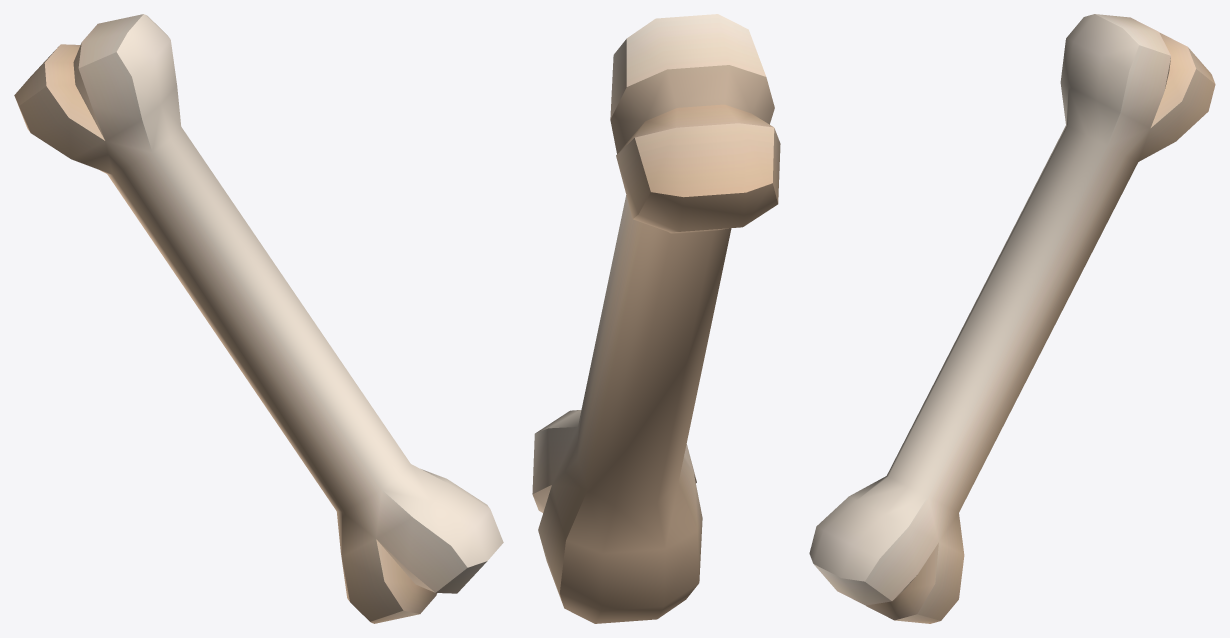
The model's file is GhostUser.glb.
3 views of the same model, side by side, from view 1: azimuth 30°, elevation 25°; view 2: azimuth 150°, elevation 25°; view 3: azimuth 270°, elevation 25° (orthographic). The views are drawn at different scales.
Parts seen in each view (by area): view 1: bone_C; view 2: bone_C; view 3: bone_C.
Part boxes in pixels (x1,y1,x2,y2): bone_C: (14,14,503,623); bone_C: (532,14,780,623); bone_C: (809,14,1215,623).
Size of the model in its own units: 0.6158 by 1 by 0.6976.
1 material, 1 textured.
